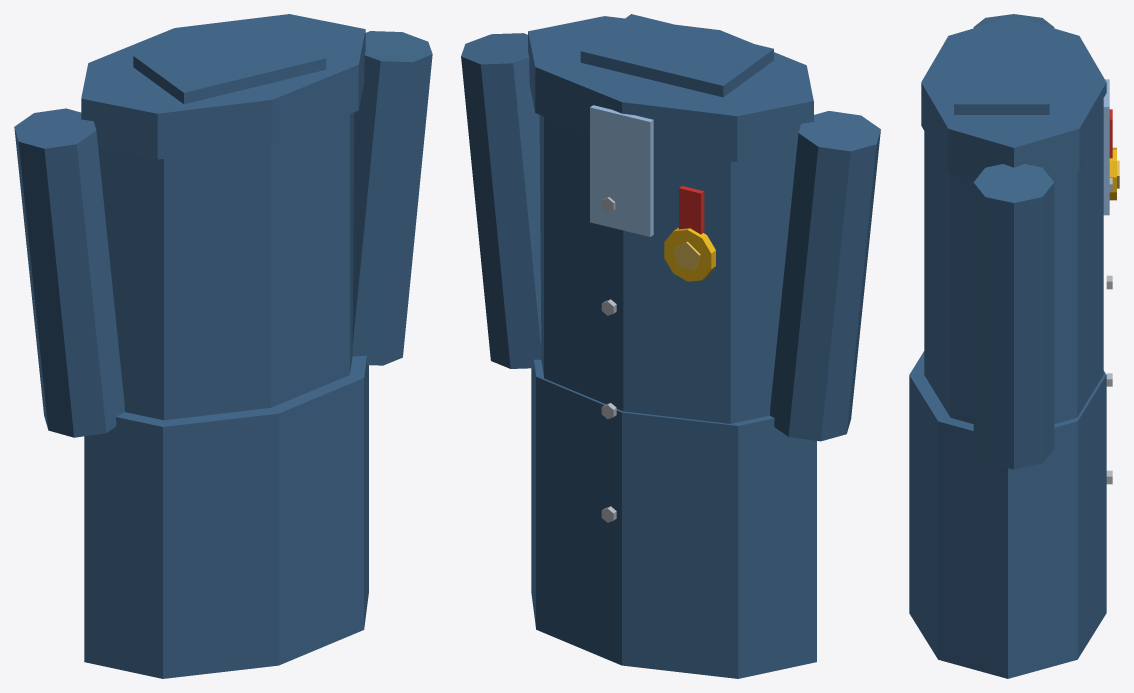
File: cosmetic_coat_employee_of_the_month.glb
The picture shows the model from 3 angles, left to right: view 1: azimuth 30°, elevation 25°; view 2: azimuth 150°, elevation 25°; view 3: azimuth 270°, elevation 25°; orthographic projection. The views are drawn at different scales.
Visible parts, largest first — view 1: cosmetic_coat_employee_of_the_month; view 2: cosmetic_coat_employee_of_the_month; view 3: cosmetic_coat_employee_of_the_month.
Boxes of the visible parts, x1,y1,x2,y2 form: cosmetic_coat_employee_of_the_month: (14, 14, 432, 678); cosmetic_coat_employee_of_the_month: (461, 14, 880, 678); cosmetic_coat_employee_of_the_month: (909, 14, 1119, 678).
Bounding box in the file's own units: 0.7486 × 1 × 0.352.
1 material, 1 textured.
